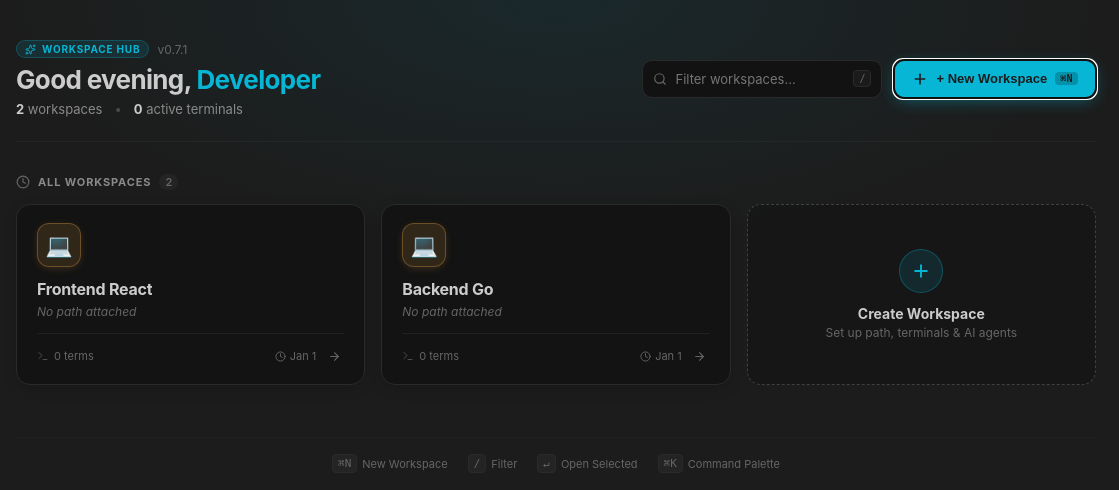
HomeView › filters workspaces by search query in real time
Expected: the text "Frontend React" is shown, [37,279,152,299]
Expected: the text "Backend Go" is shown, [402,279,493,299]
In the field with placeholder "Filter workspaces...": [764, 78] box [676,60,854,96], type "Frontend"
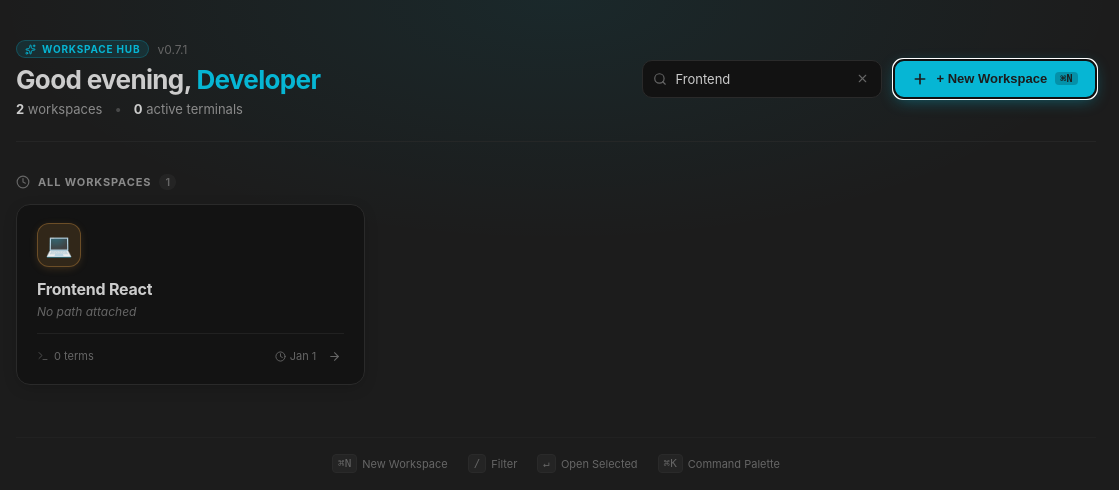
Expected: the text "Frontend React" is shown, [37,279,152,299]
Result: the button "Backend Go" is gone
